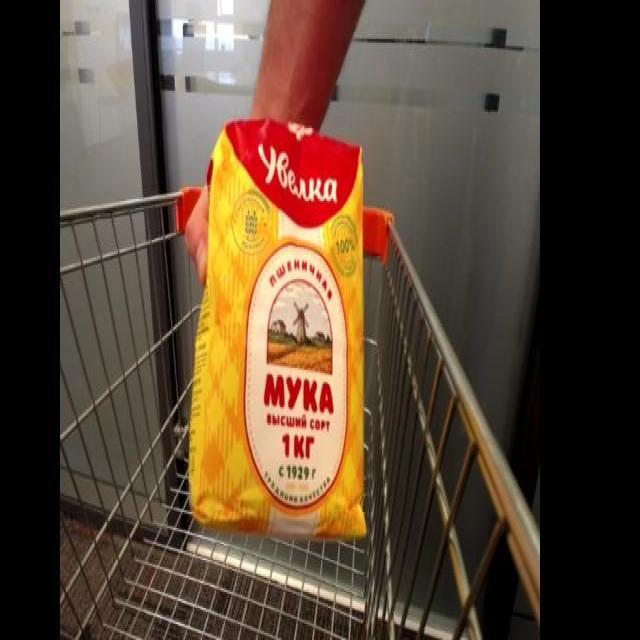Flour: (178, 112, 374, 546)
